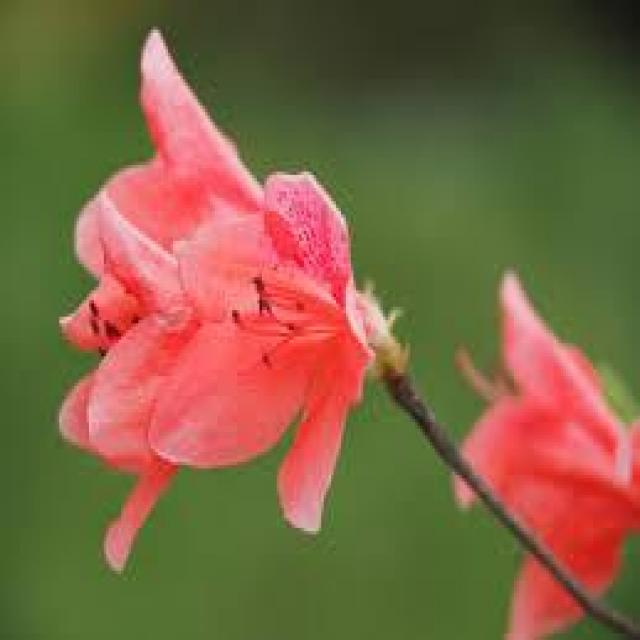organic waste: (27, 13, 302, 554), (153, 167, 388, 526)
